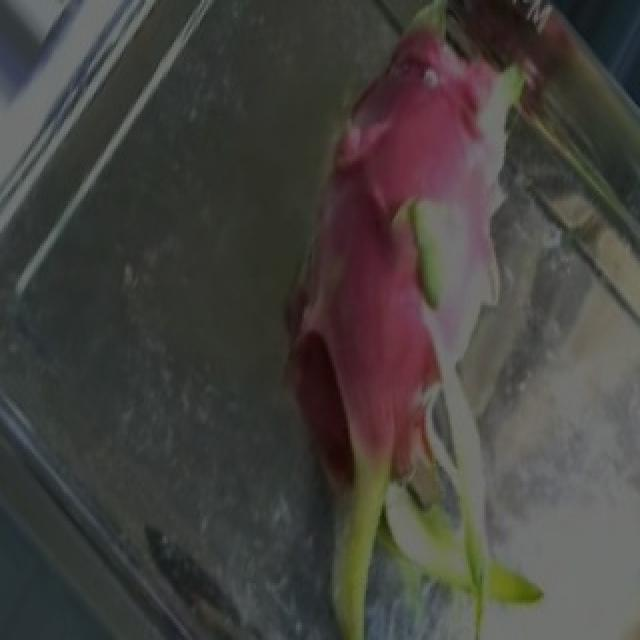fruit: (214, 2, 636, 426), (204, 216, 628, 637)
